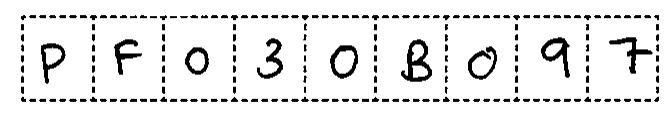0: (460, 40, 505, 84), (326, 36, 366, 85), (178, 42, 218, 82)
3: (252, 35, 295, 81)
7: (602, 31, 655, 81)
9: (535, 31, 579, 84)
B: (395, 35, 437, 84)
F: (106, 34, 146, 80)
P: (35, 37, 70, 90)
